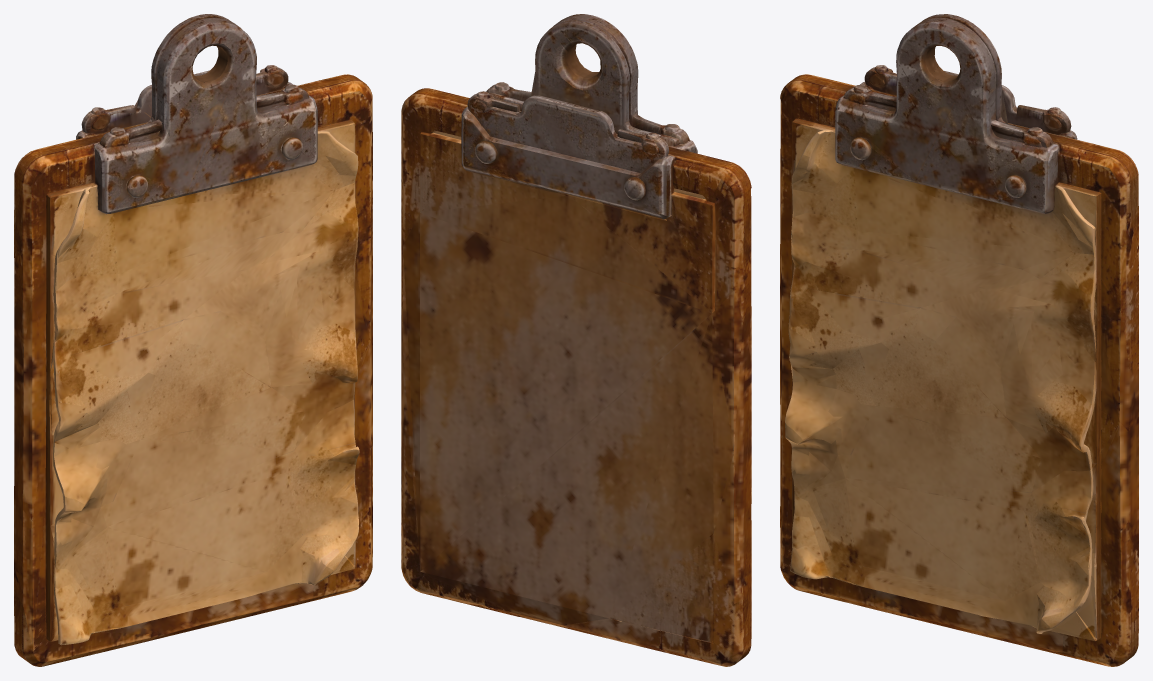
File: clipboard.glb
3 renders of one model, left to right at view 1: azimuth 30°, elevation 25°; view 2: azimuth 150°, elevation 25°; view 3: azimuth 330°, elevation 25°, orthographic. The views are drawn at different scales.
Visible parts, largest first — view 1: Mesh_0; view 2: Mesh_0; view 3: Mesh_0.
Boxes of the visible parts, left/top/right/bottom form: Mesh_0: left=14, top=14, right=372, bottom=666; Mesh_0: left=401, top=14, right=751, bottom=666; Mesh_0: left=780, top=14, right=1138, bottom=666.
Size of the model in its own units: 1.13 by 1.89 by 0.2485.
Materials: 1 (1 with a texture image).
